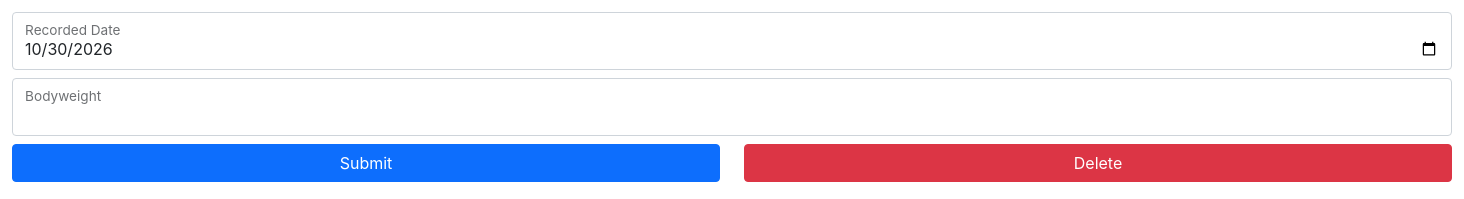
it: changing the date loads the bodyweight for that day
// Find the recorded field and change it
Type "2022-01-11" into the date field labelled "Recorded Date" at (732, 41), box [12, 12, 1452, 70]
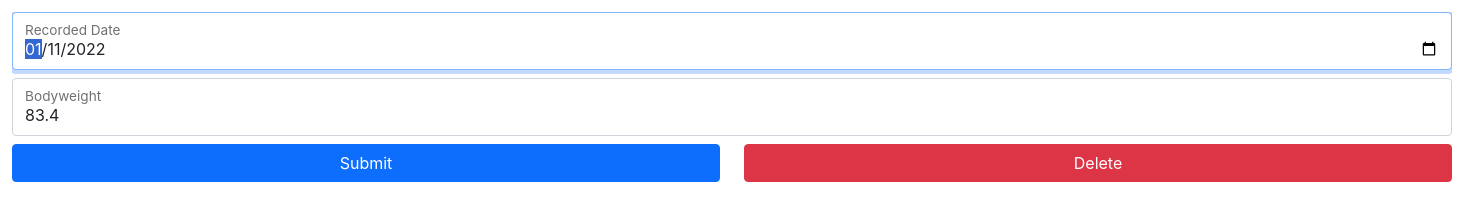
Check: the number field labelled "Bodyweight" holds "83.4", box [12, 78, 1452, 136]
